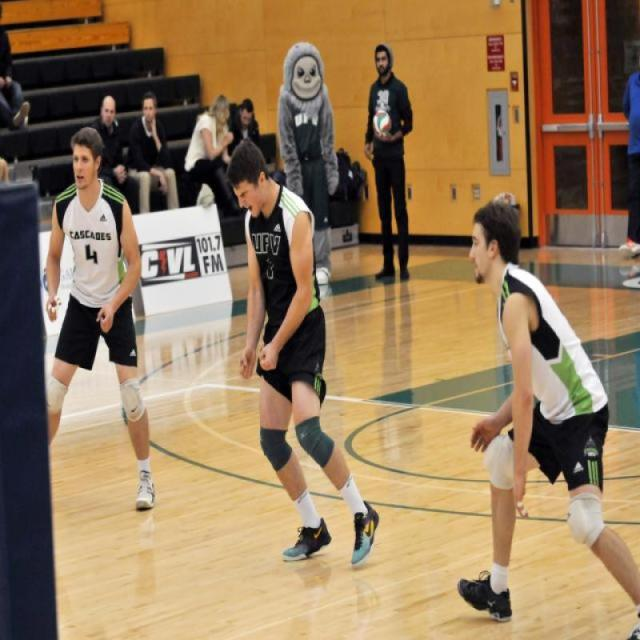volleyball: (371, 109, 394, 140)
